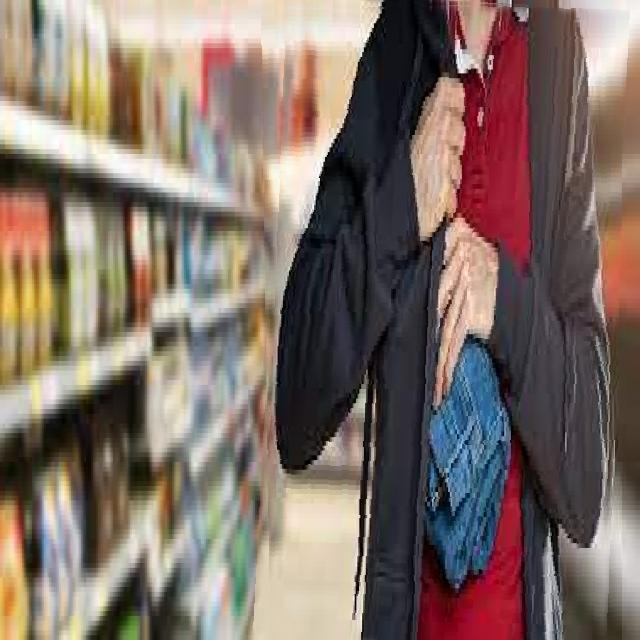Shoplifting: (261, 0, 622, 640)
